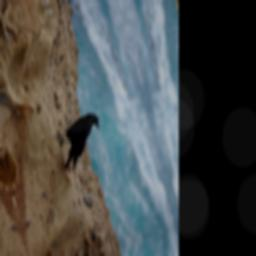Crow: (51, 110, 111, 175)
